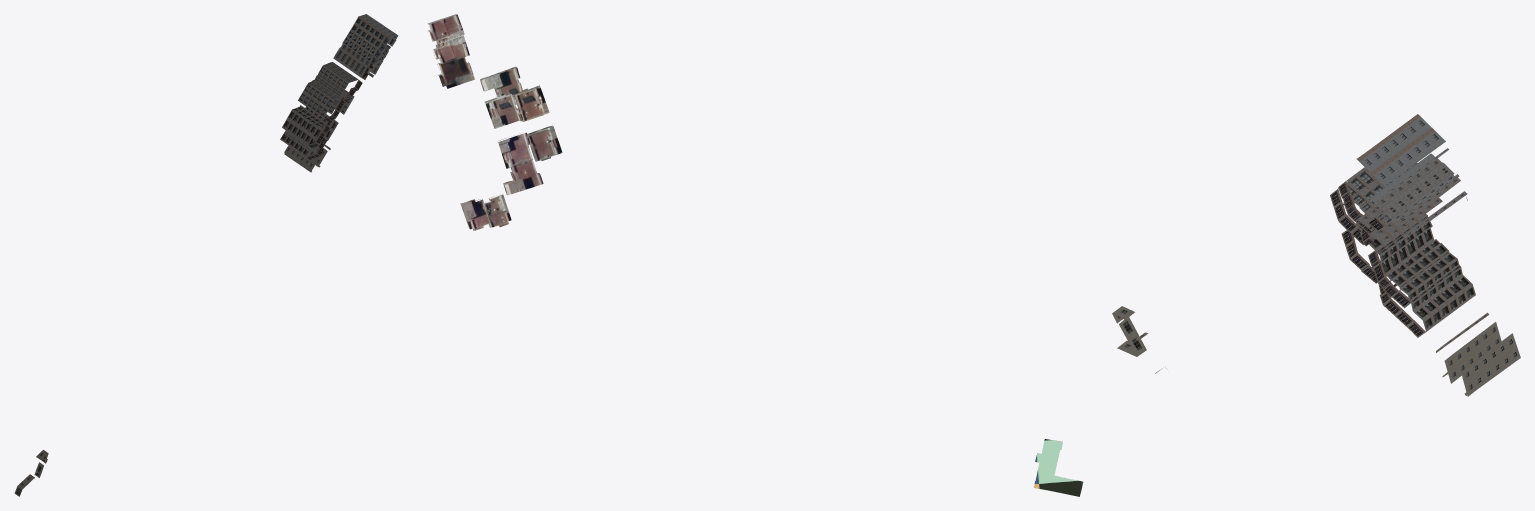
File: tile_LOD8_r6_c0.glb
3 views of the same model, side by side, from view 1: azimuth 30°, elevation 25°; view 2: azimuth 150°, elevation 25°; view 3: azimuth 270°, elevation 25° (orthographic). The views are drawn at different scales.
Size of the model in its own units: 309 by 217 by 123.
34 materials, 34 textured.
